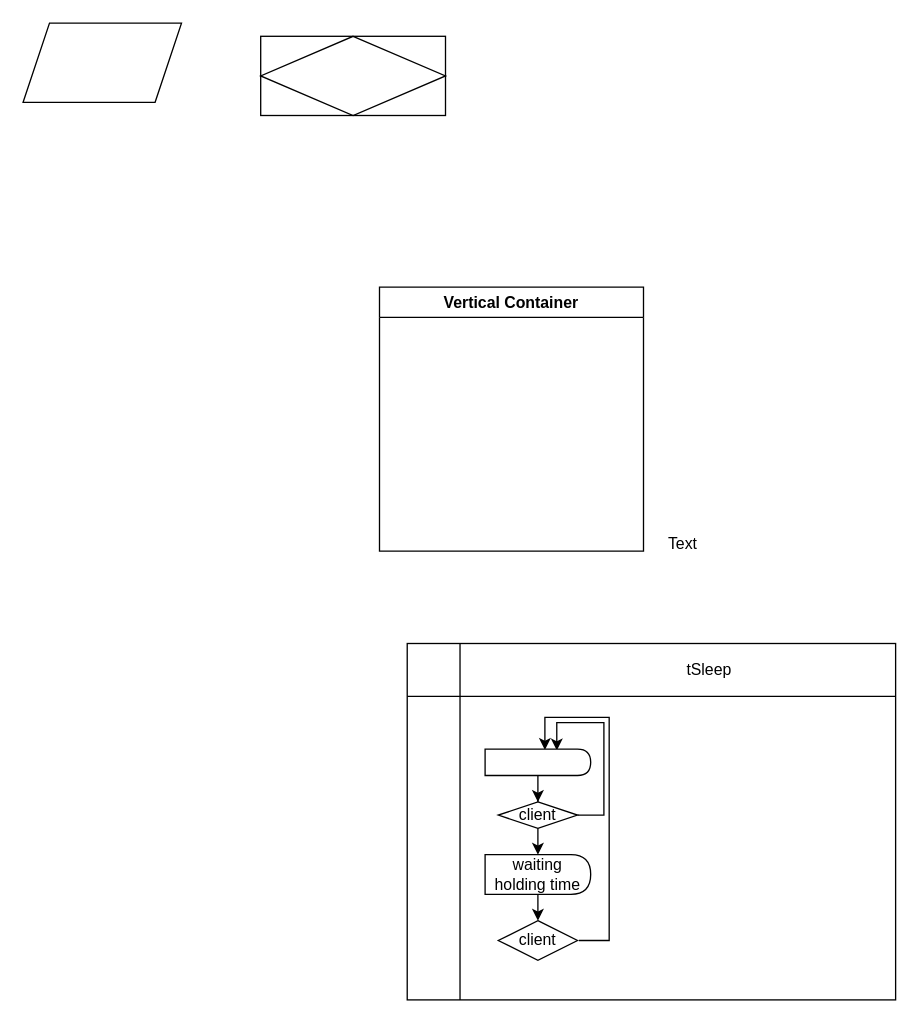
Some shapes in this 919 by 1023 pixel diagram are drawn without their labels. Here are the shapes that lost their labels. From the top down, the centre of each, then its label:
At [352,75]: "Rep state".
At [537,762]: "working time".
